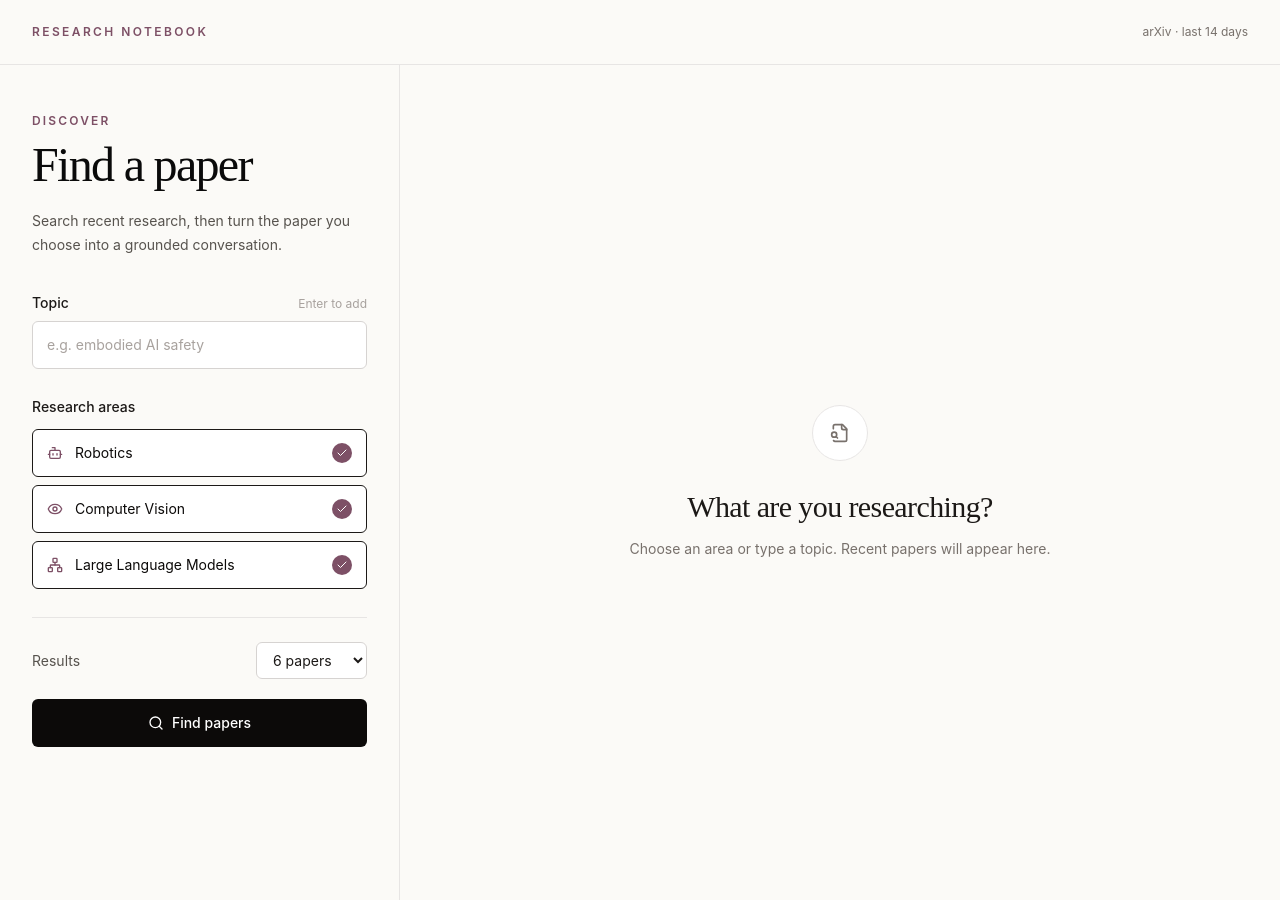
Scenario: ResearchPaperFinder › keeps the search action unavailable without an area or topic
Click the button "Robotics": (104, 452) [32,429,367,477]
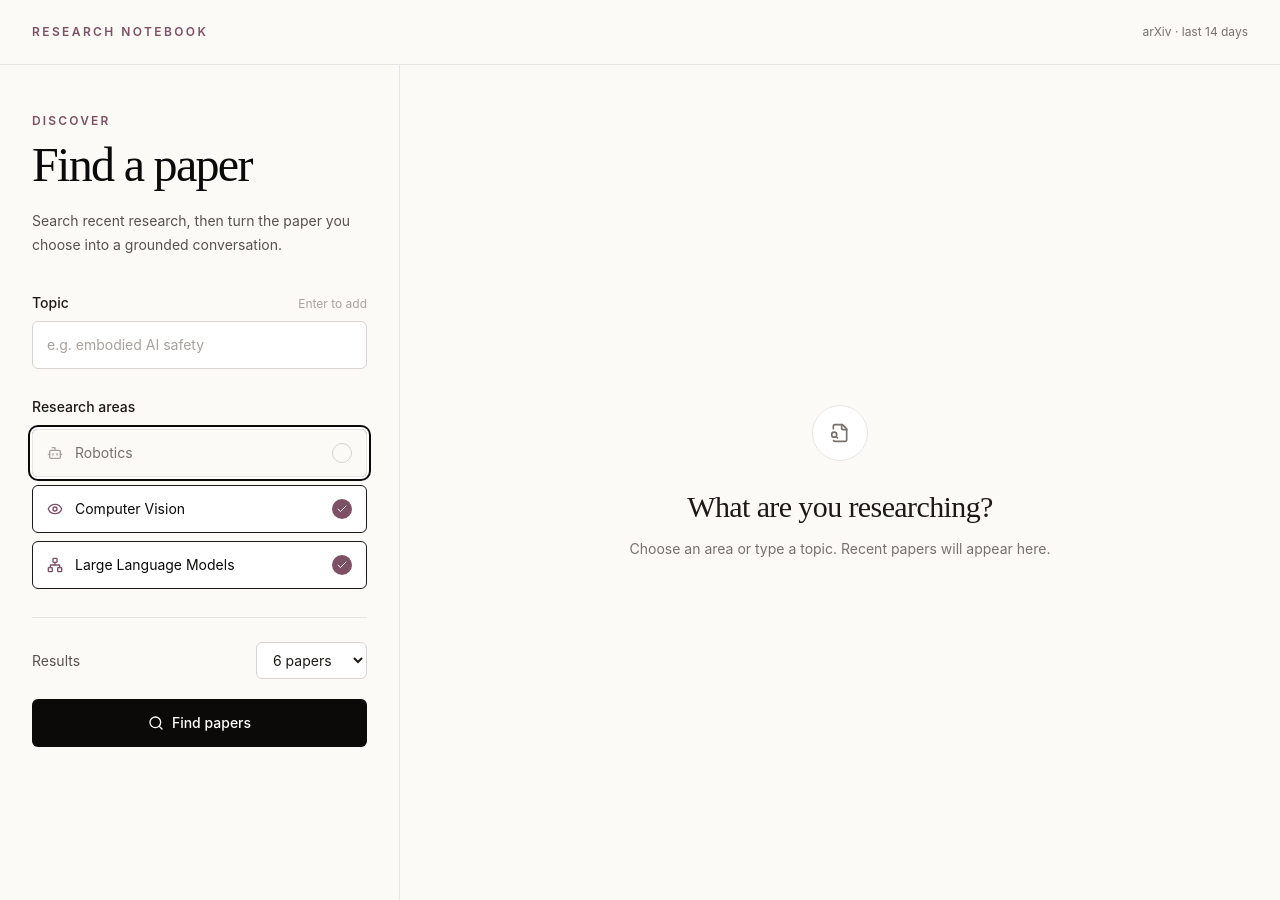
Click the button "Computer Vision": (130, 508) [32,485,367,533]
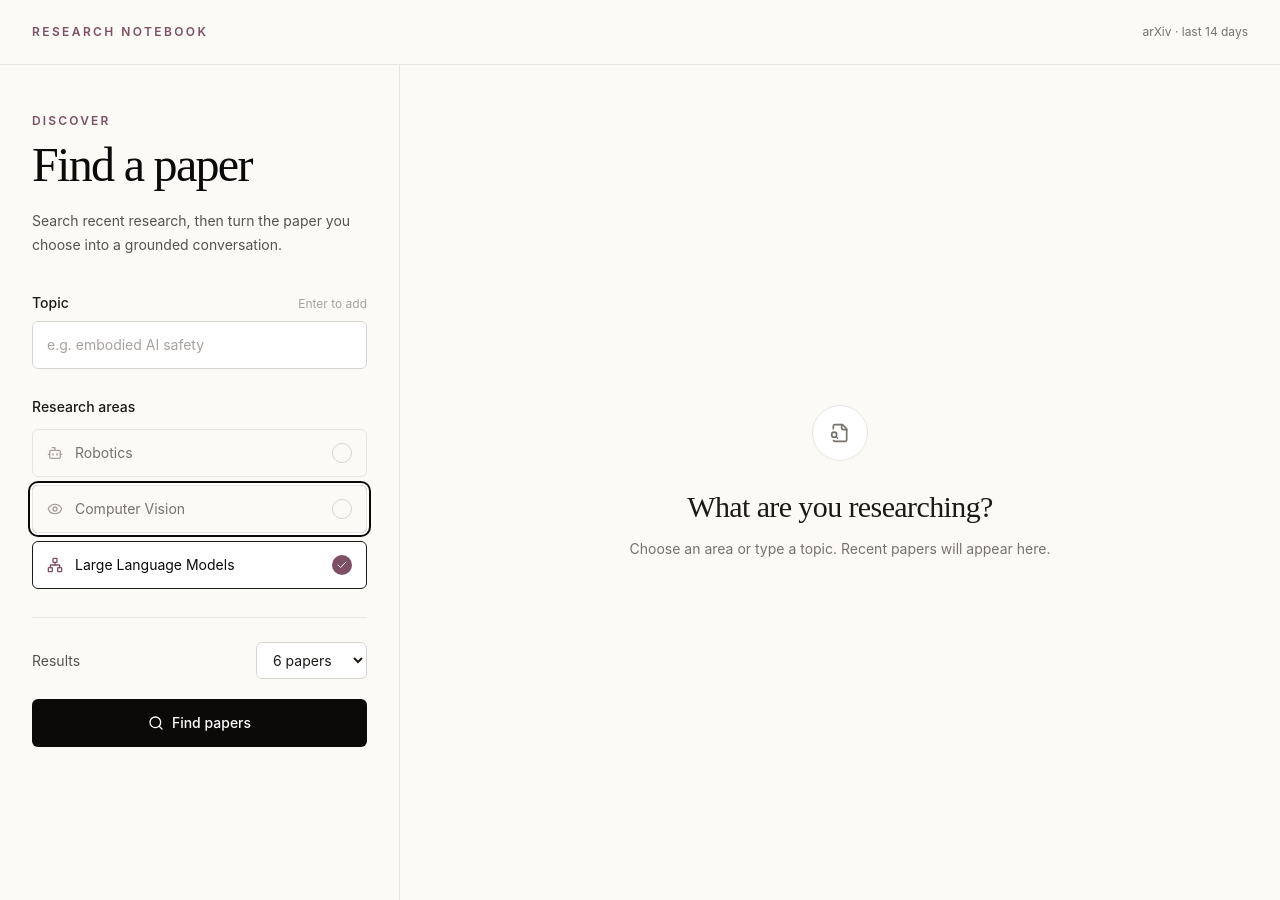
Click the button "Large Language Models": (200, 565) [32,541,367,589]
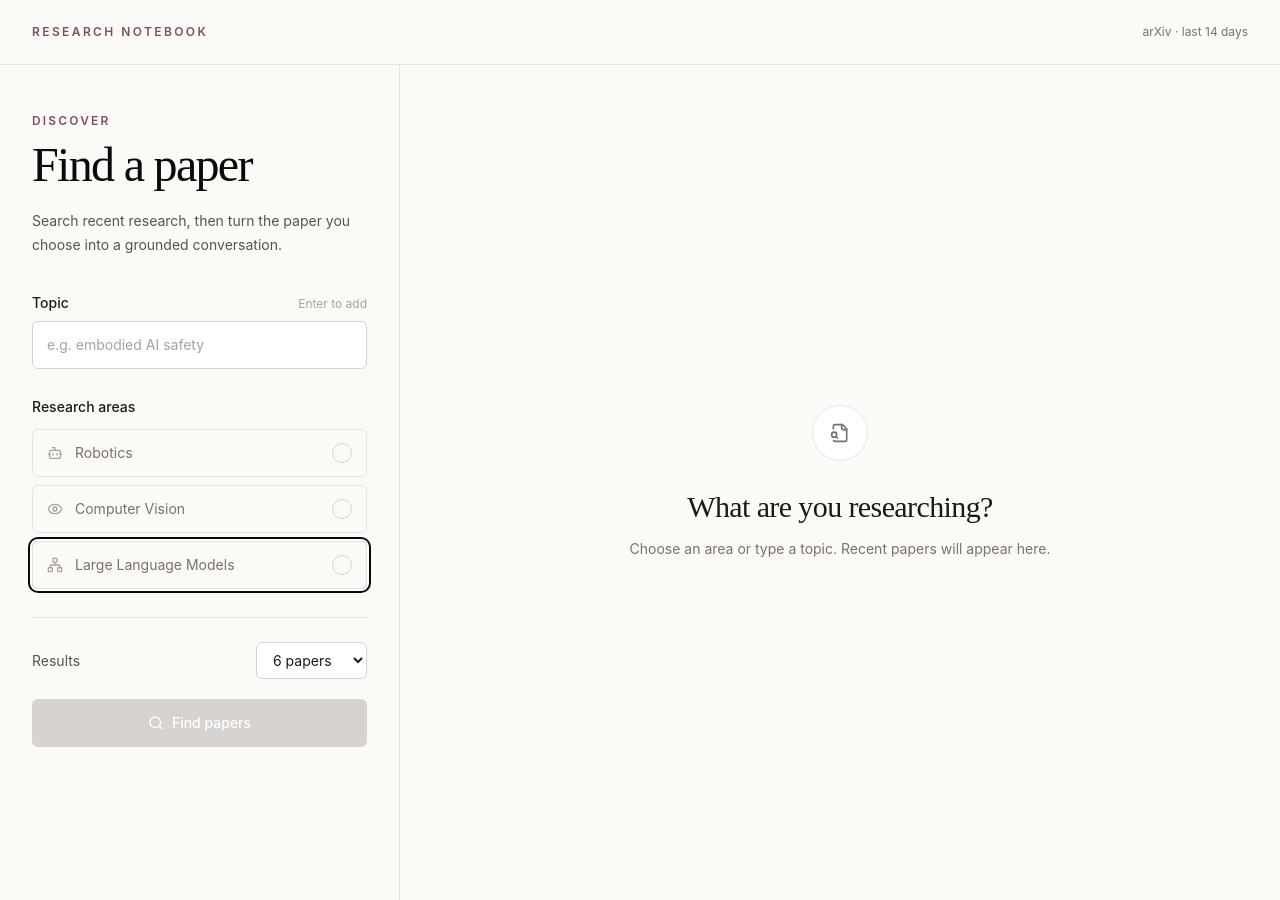
Now the button "Find papers" is disabled, box [32,699,367,747]
